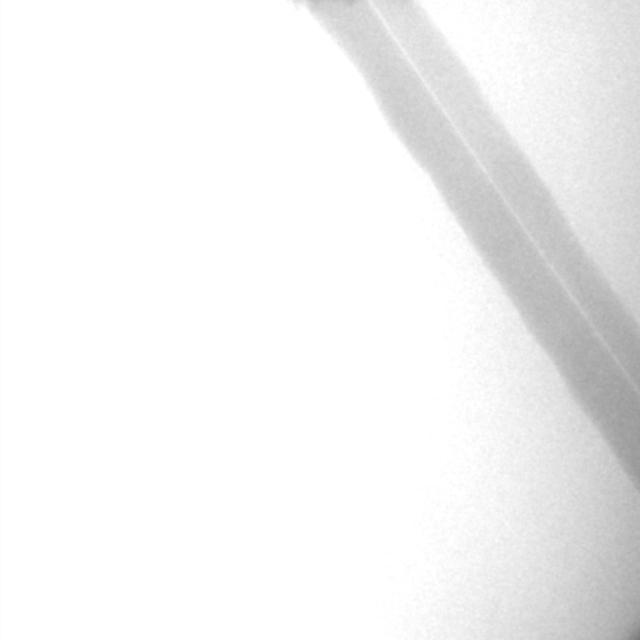broken arc: (370, 4, 637, 389)
